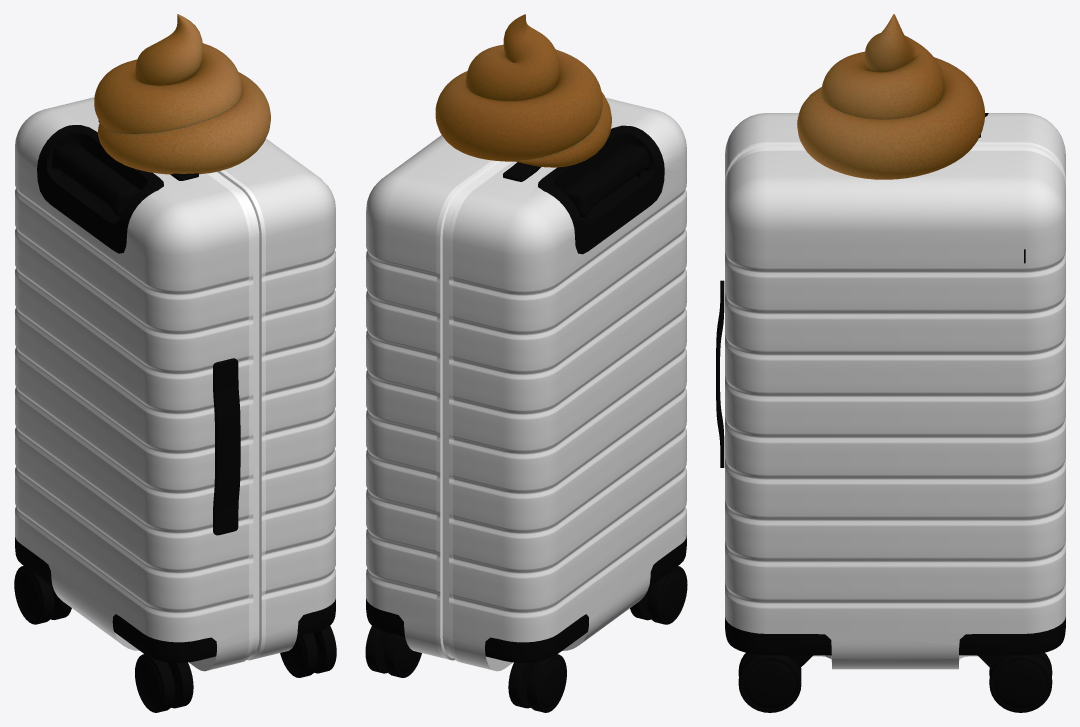
File: shit_luggage.glb
3 renders of one model, left to right at view 1: azimuth 30°, elevation 25°; view 2: azimuth 150°, elevation 25°; view 3: azimuth 270°, elevation 25°, orthographic. The views are drawn at different scales.
Visible parts, largest first — view 1: Cube_11; view 2: Cube_11; view 3: Cube_11.
Part boxes in pixels (left/top/right/bottom): Cube_11: left=14, top=14, right=336, bottom=712; Cube_11: left=365, top=14, right=687, bottom=712; Cube_11: left=716, top=14, right=1065, bottom=712.
Bounding box in the file's own units: 0.9704 × 3.1 × 1.5.
4 materials, 1 textured.
